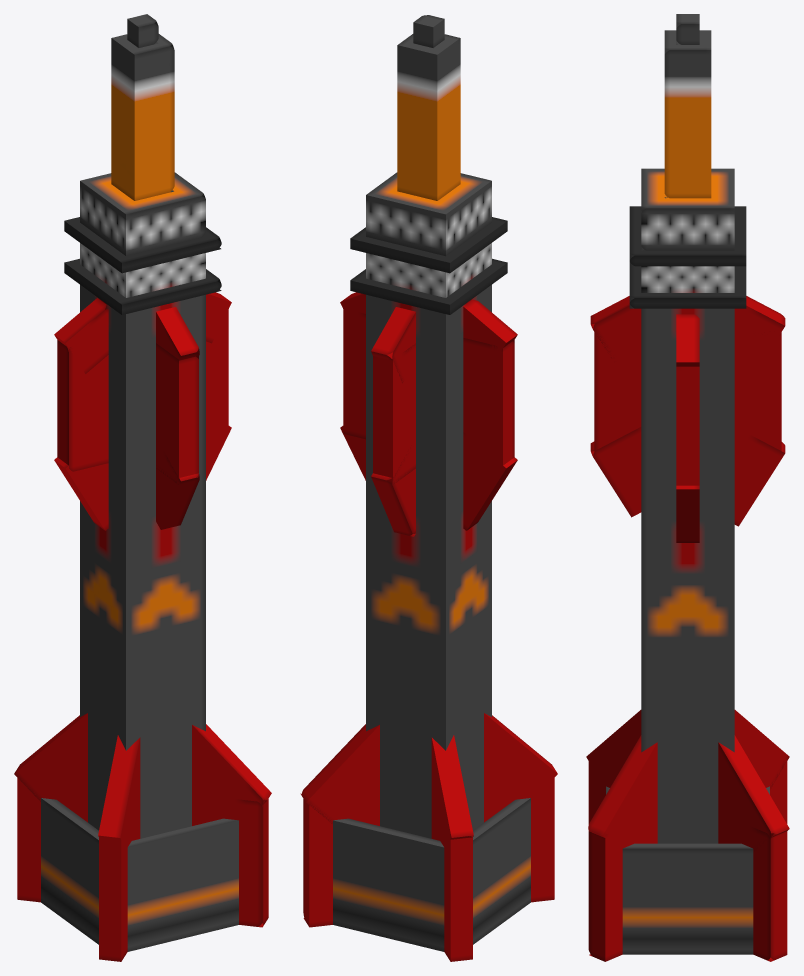
Rendered from missile_breaching.obj.
3 renders of one model, left to right at view 1: azimuth 30°, elevation 25°; view 2: azimuth 150°, elevation 25°; view 3: azimuth 270°, elevation 25°, orthographic.
Parts seen in each view (by area): view 1: Shape1, Shape2, Shape7a, Shape3, Shape3b, Shape5a, Shape7, Shape2d, Shape5, Shape3a, Shape3c, Shape6a (+8 smaller); view 2: Shape1, Shape2b, Shape7a, Shape3a, Shape5a, Shape3c, Shape7, Shape2d, Shape5, Shape3, Shape3b, Shape6 (+6 smaller); view 3: Shape1, Shape2c, Shape5, Shape7a, Shape3c, Shape7, Shape3, Shape3a, Shape3b, Shape6a, Shape5a, Shape4d (+7 smaller).
Boxes of the visible parts, x1,y1,x2,y2 form: Shape1: (80,243,205,838); Shape2: (127,818,238,951); Shape7a: (111,34,174,200); Shape3: (17,775,268,927); Shape3b: (14,713,271,821); Shape5a: (57,310,228,471); Shape7: (80,172,205,256); Shape2d: (41,798,98,944); Shape5: (156,343,198,484); Shape3a: (99,837,127,961); Shape3c: (98,735,140,851); Shape6a: (64,217,221,273); Shape1: (366,243,491,838); Shape2b: (333,818,444,951); Shape7a: (397,34,460,200); Shape3a: (303,774,554,927); Shape5a: (343,308,514,465); Shape3c: (300,713,557,825); Shape7: (366,172,491,256); Shape2d: (473,798,530,944); Shape5: (373,343,415,484); Shape3: (431,807,472,961); Shape3b: (431,735,473,839); Shape6: (350,258,507,314); Shape1: (641,266,734,843); Shape2c: (622,843,753,954); Shape5: (594,323,781,451); Shape7a: (664,30,711,198); Shape3c: (586,710,789,851); Shape7: (641,168,734,250); Shape3: (588,758,787,961); Shape3a: (588,758,787,961); Shape3b: (588,710,789,842); Shape6a: (629,206,746,266); Shape5a: (676,366,699,485); Shape4d: (734,427,785,526).
Bounding box in the file's own units: 1.09 × 5.31 × 1.09.
